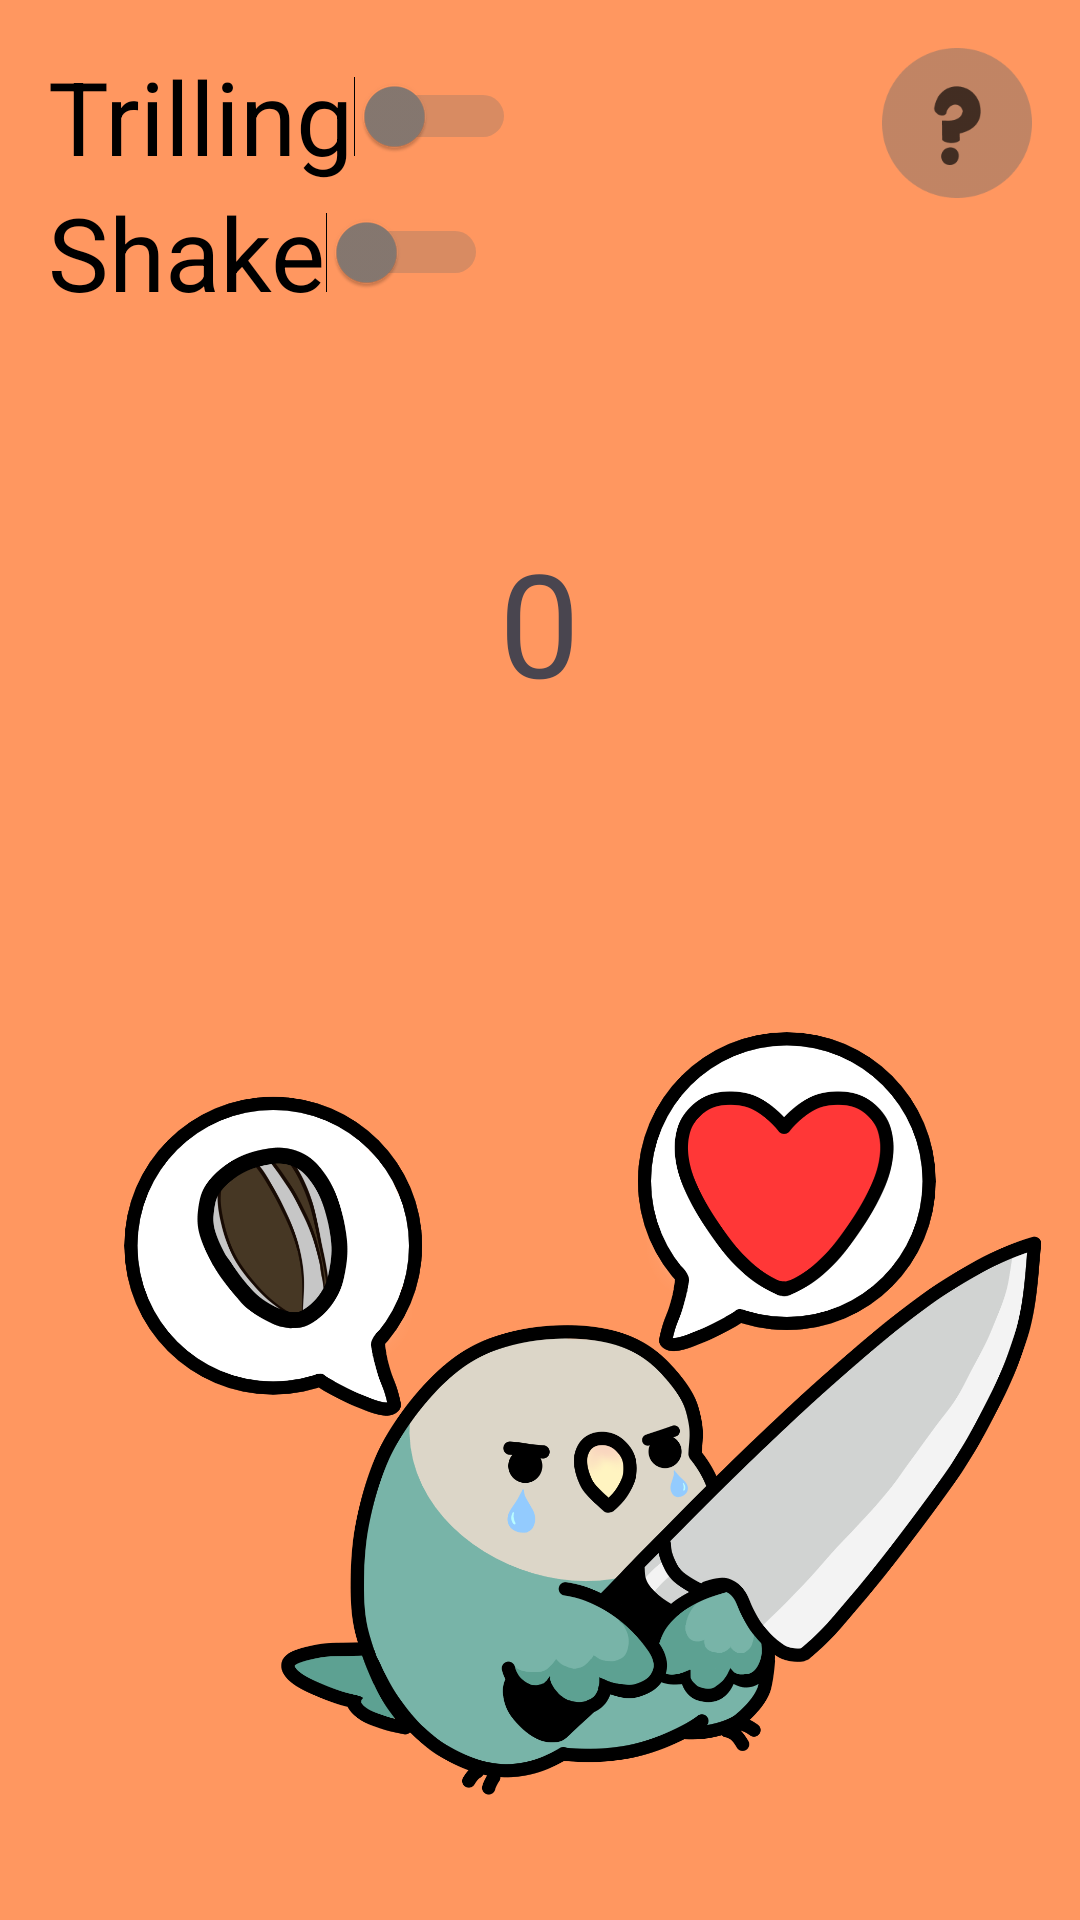

Locate icon controls on the screen. Image size 1080px x 1920px, boxes as (x1,y1,x2,y2).
question: (882,48,1032,198)
